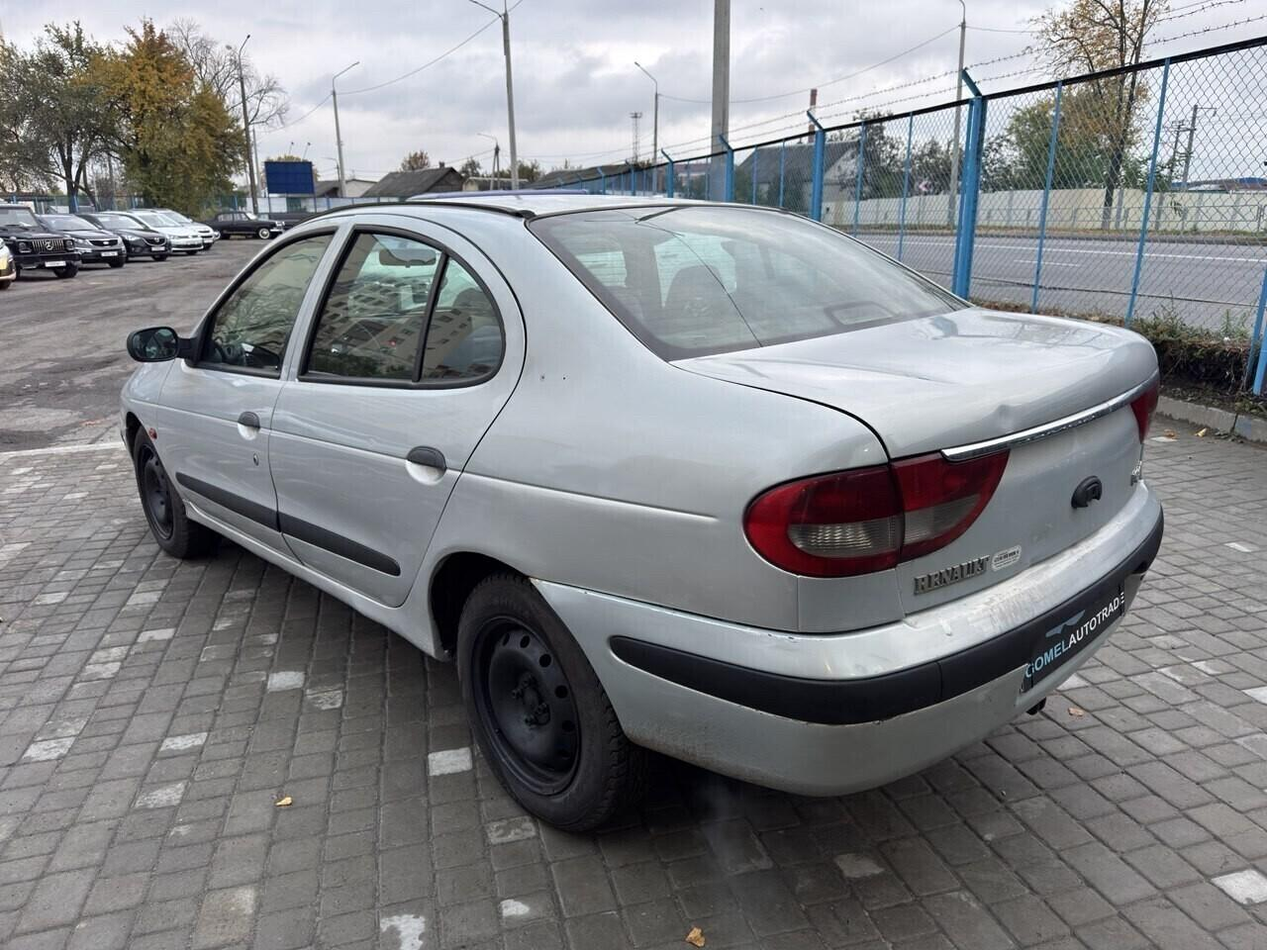Megane_1999-2003: (115, 187, 1177, 825)
